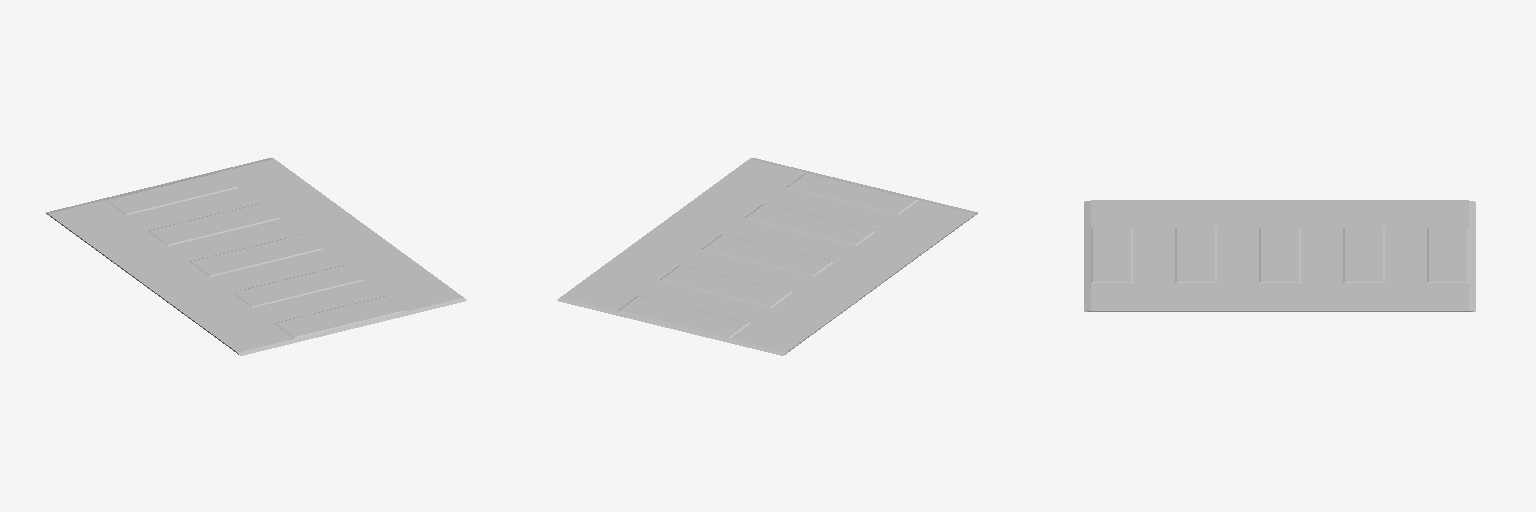
Rendered from RoadPedCrossing20.obj.
3 renders of one model, left to right at view 1: azimuth 30°, elevation 25°; view 2: azimuth 150°, elevation 25°; view 3: azimuth 270°, elevation 25°, orthographic.
Visible parts, largest first — view 1: Cube1_sep5; view 2: Cube1_sep5; view 3: Cube1_sep5.
Part boxes in pixels (left/top/right/bottom): Cube1_sep5: left=46, top=158, right=466, bottom=355; Cube1_sep5: left=557, top=158, right=977, bottom=355; Cube1_sep5: left=1084, top=200, right=1475, bottom=311.
Size of the model in its own units: 20 by 0.15 by 30.